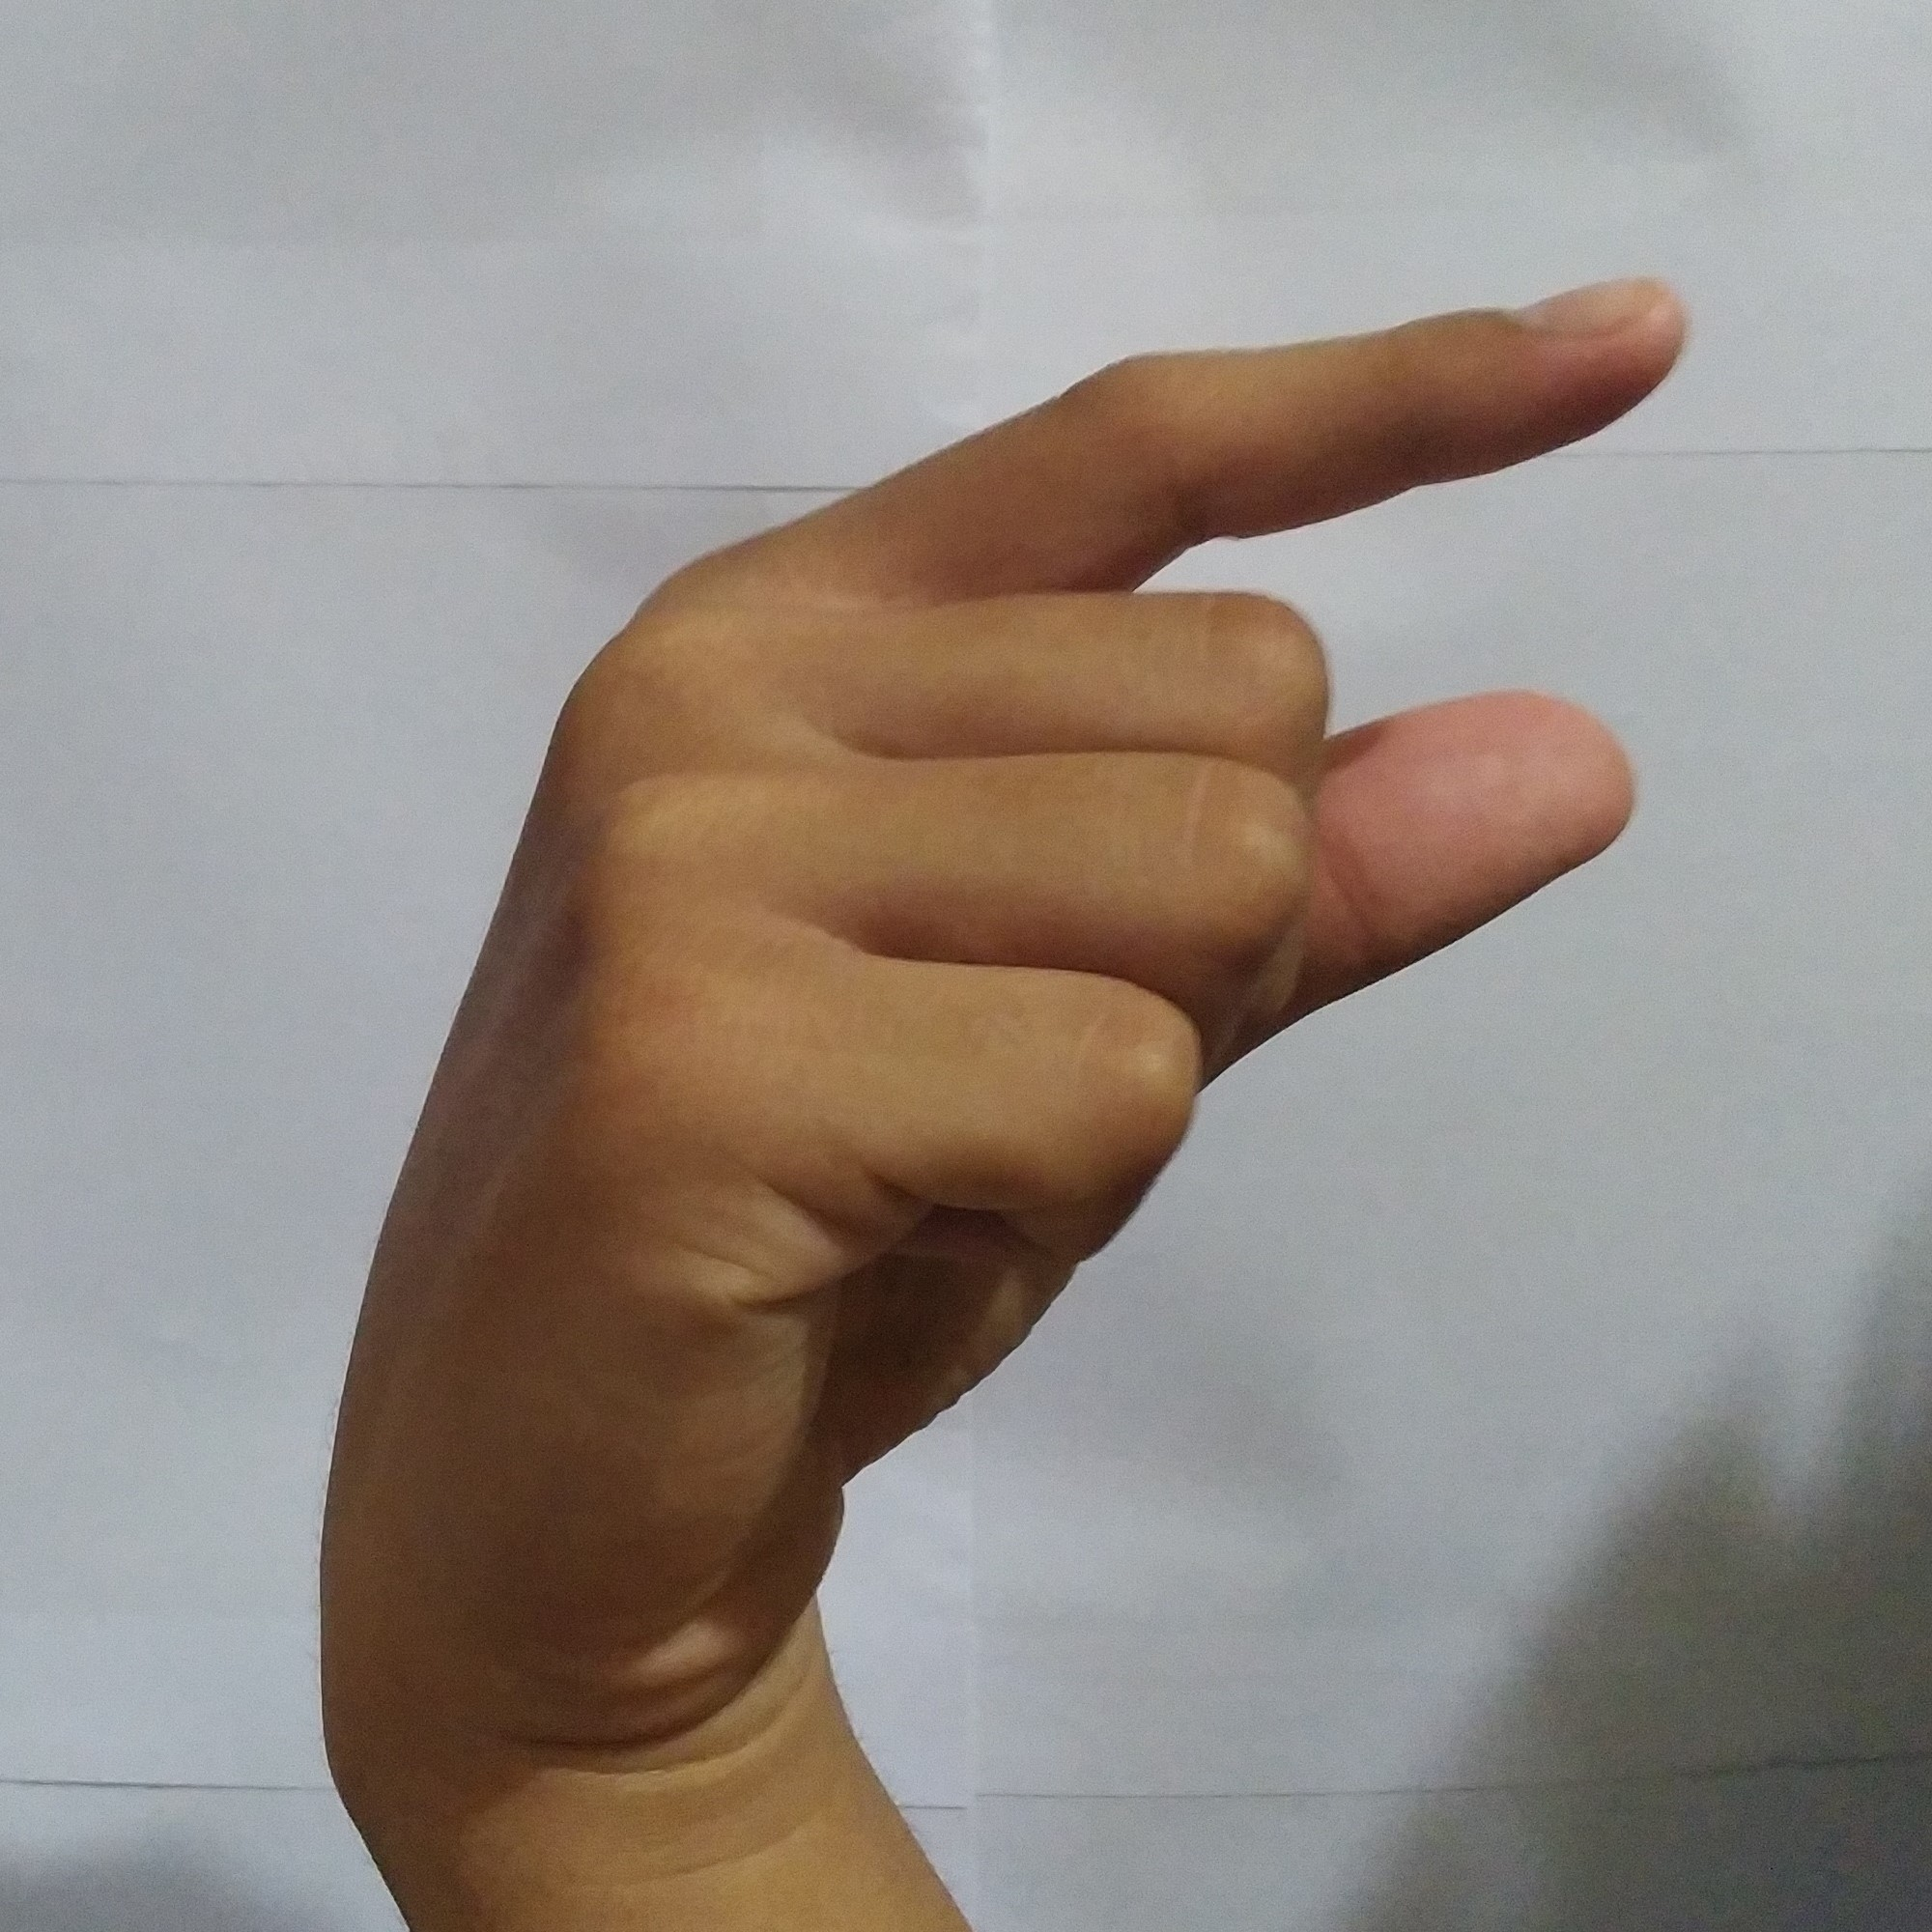G: (318, 251, 1713, 1612)
